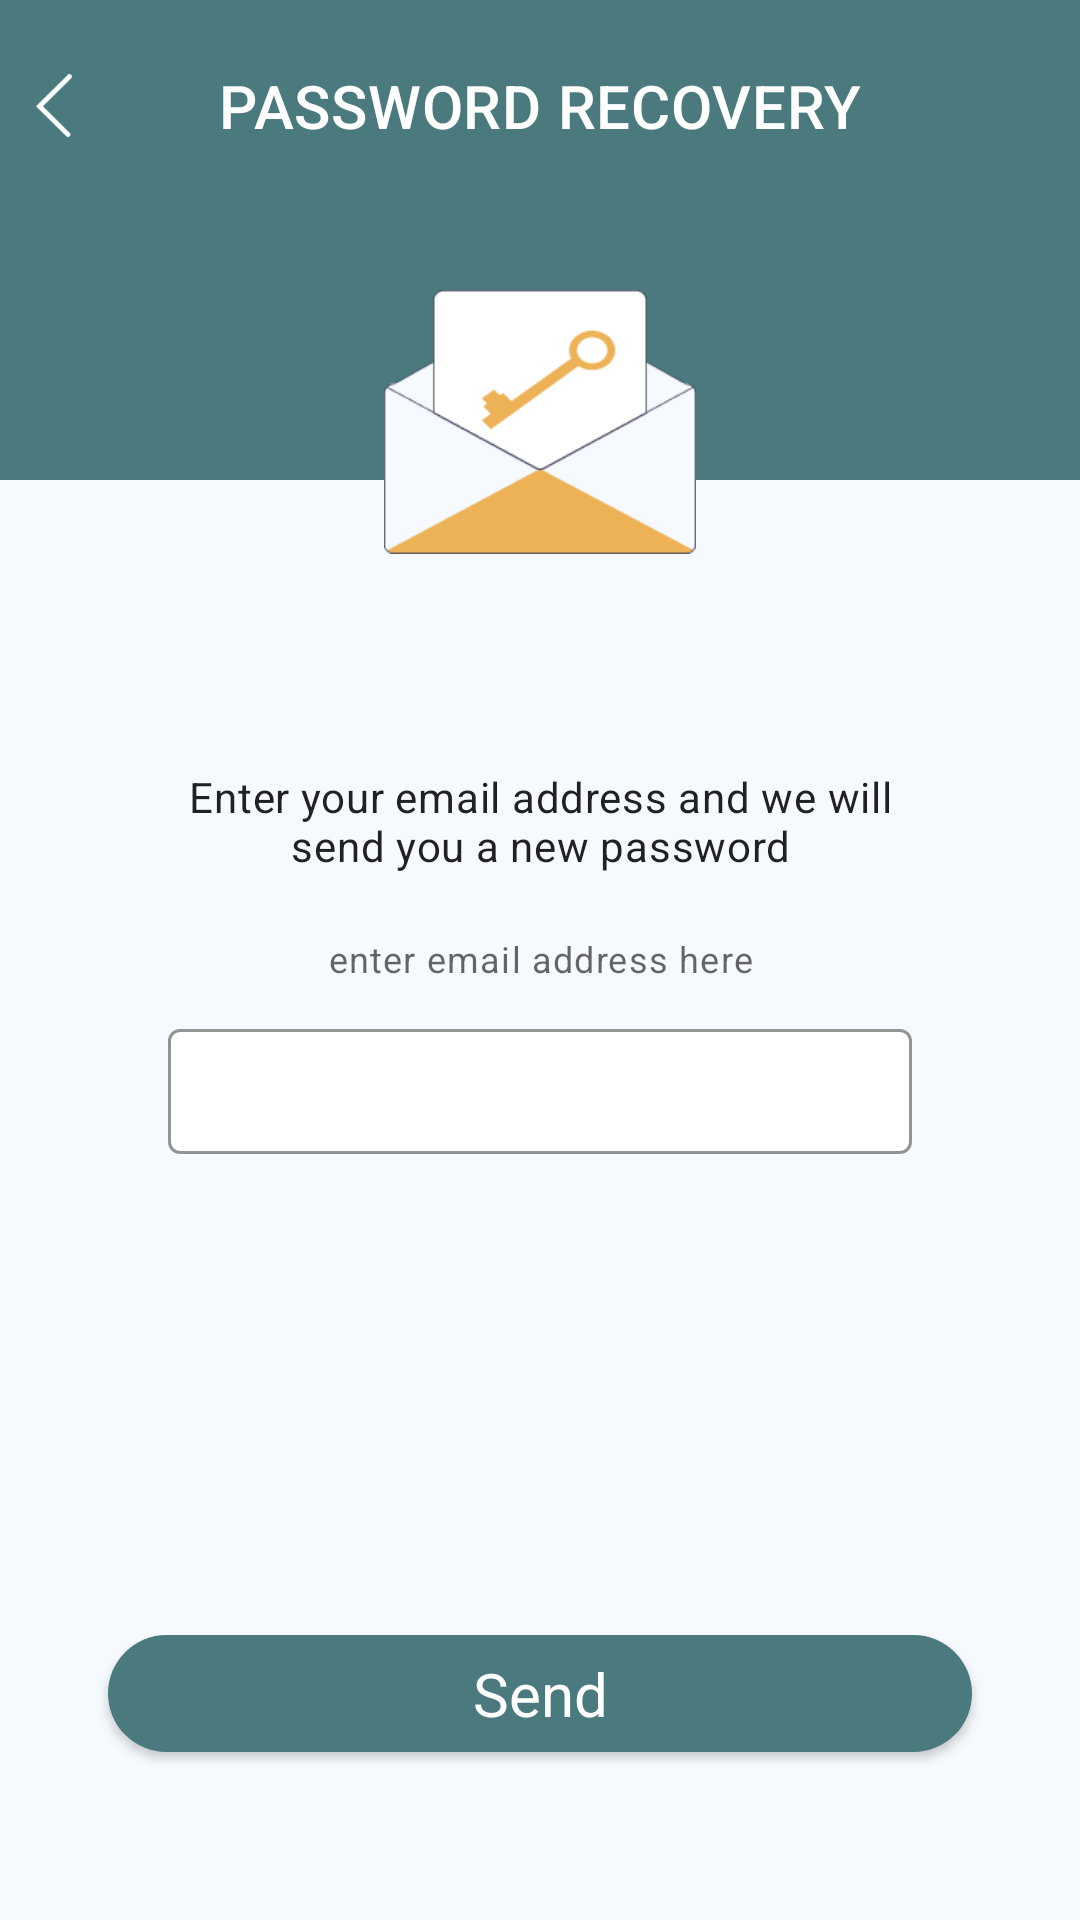

Where to tap for icons on this 1080 x 1920 app screen, as [x,y]:
back: [54,105]
